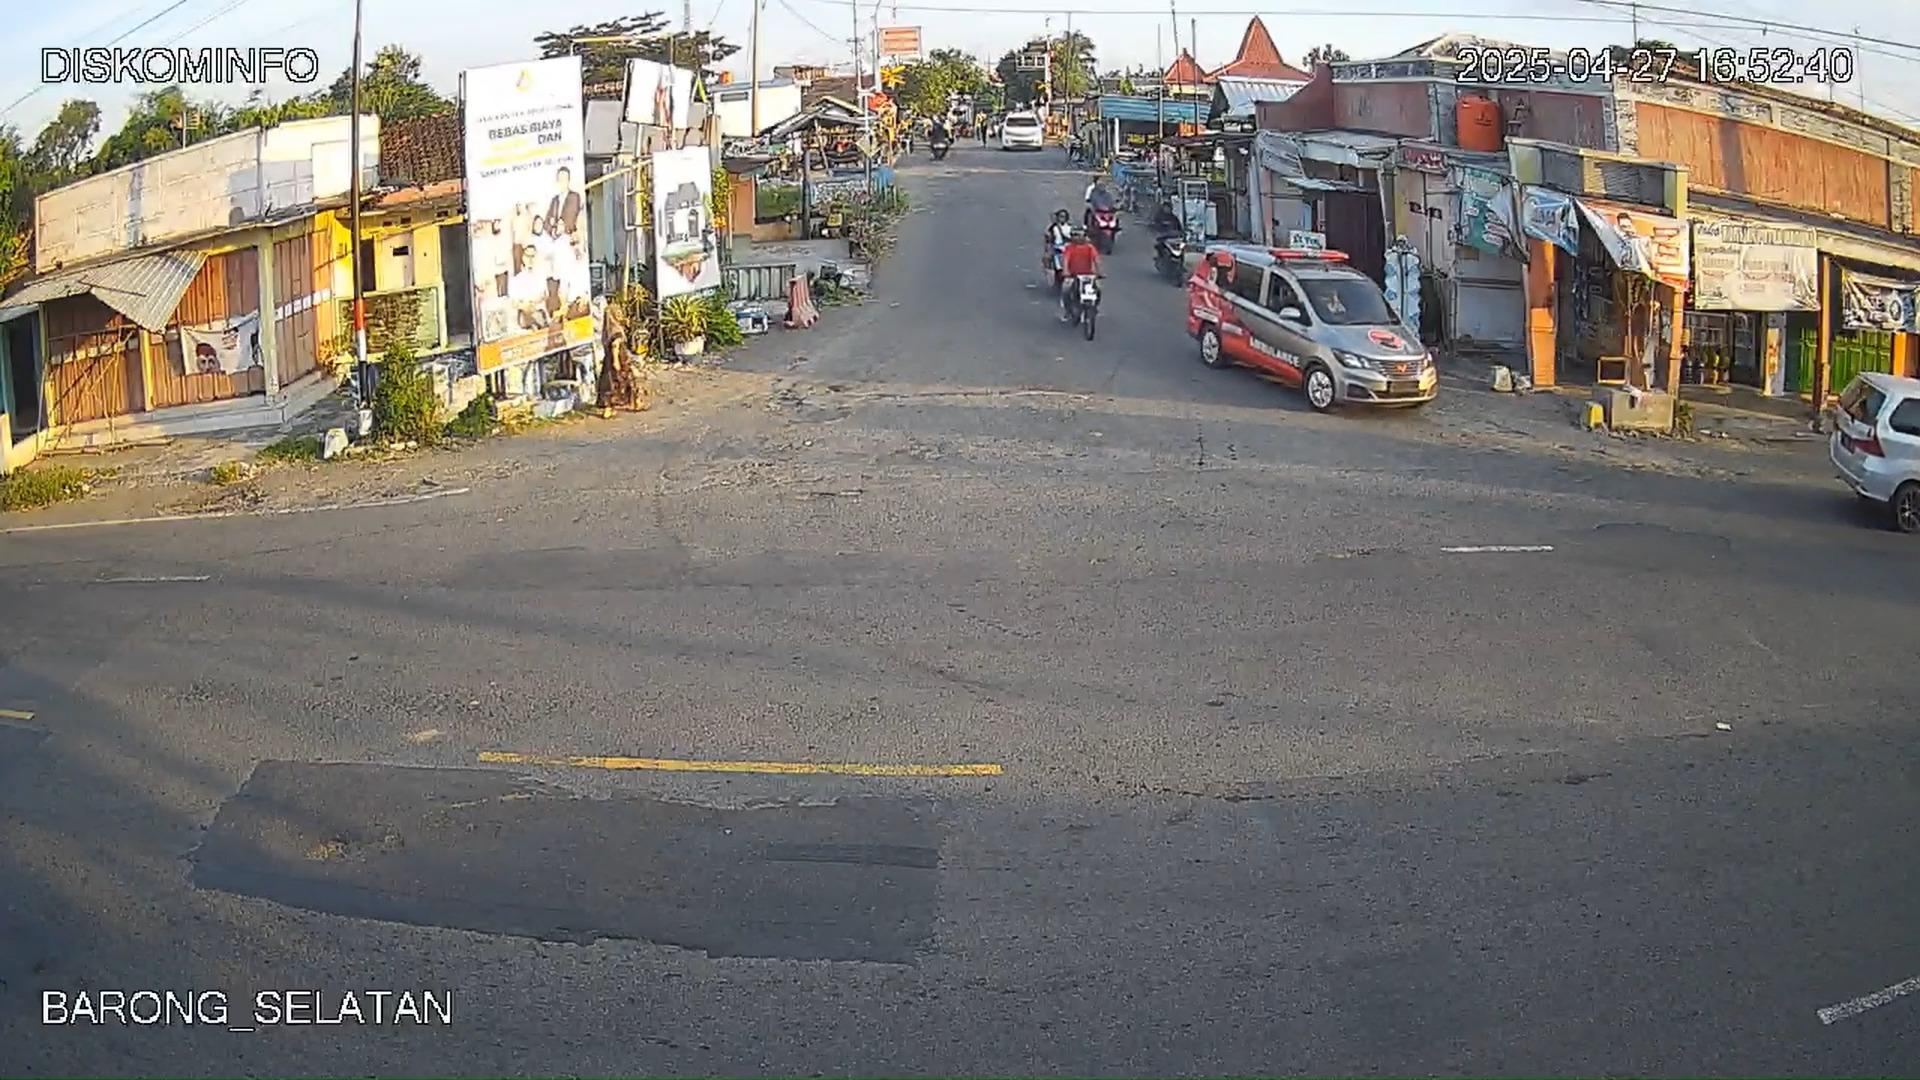Motor: (1062, 260, 1106, 342)
mobil: (1192, 240, 1428, 411), (1828, 371, 1919, 533)
